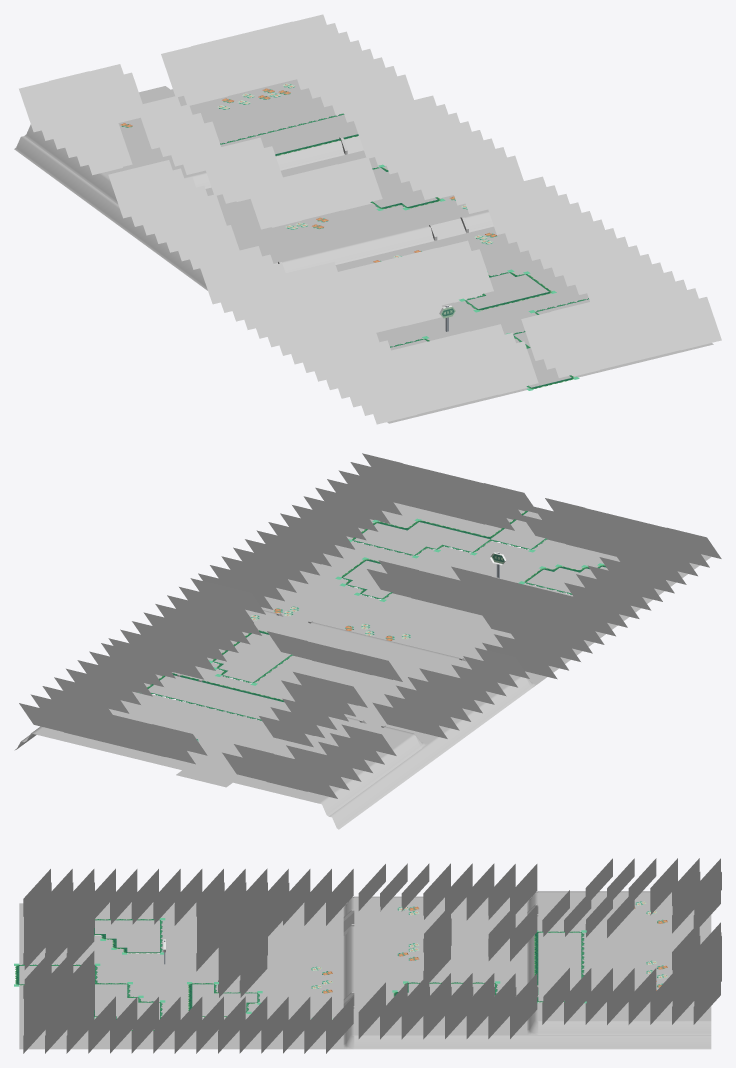
Rendered from Route 1.fbx.
3 renders of one model, top to bottom at view 1: azimuth 30°, elevation 25°; view 2: azimuth 150°, elevation 25°; view 3: azimuth 270°, elevation 25°, orthographic. The views are drawn at different scales.
Parts seen in each view (by area): view 1: map32_09c, map32_10c; view 2: map32_09c, map32_10c; view 3: map32_09c, map32_10c.
Boxes of the visible parts, x1,y1,x2,y2 form: map32_09c: [14, 14, 523, 290]; map32_10c: [198, 176, 721, 424]; map32_09c: [14, 578, 531, 829]; map32_10c: [198, 453, 721, 687]; map32_09c: [354, 858, 721, 1049]; map32_10c: [14, 868, 365, 1053].
Size of the model in its own units: 54400 by 8242 by 104800.
